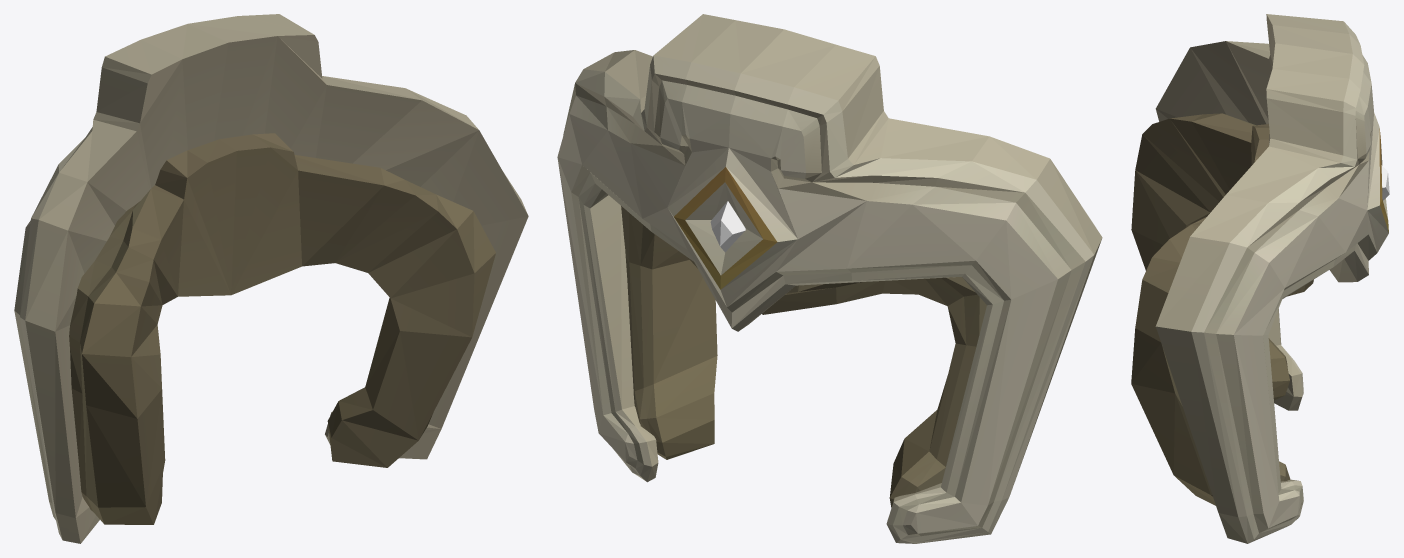
The model's file is CharSkyKid_Mask_ElderDay.glb.
3 renders of one model, left to right at view 1: azimuth 30°, elevation 25°; view 2: azimuth 150°, elevation 25°; view 3: azimuth 270°, elevation 25°, orthographic. The views are drawn at different scales.
Visible parts, largest first — view 1: CharSkyKid_Mask_ElderDay; view 2: CharSkyKid_Mask_ElderDay; view 3: CharSkyKid_Mask_ElderDay.
Boxes of the visible parts, box(x1,y1,x2,y2) form: CharSkyKid_Mask_ElderDay: box(14, 14, 528, 543); CharSkyKid_Mask_ElderDay: box(557, 14, 1102, 543); CharSkyKid_Mask_ElderDay: box(1131, 14, 1389, 543).
Size of the model in its own units: 3.34 by 2.88 by 1.6.
Materials: 1 (1 with a texture image).
